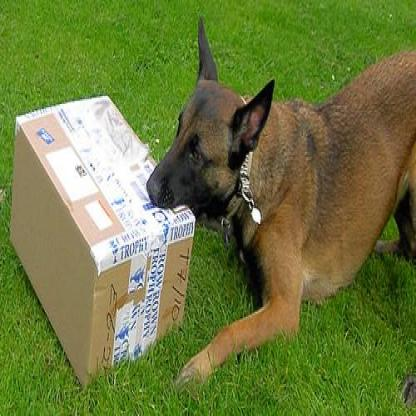malinois: (143, 10, 414, 404)
